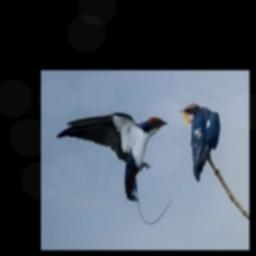Swallow: (57, 112, 168, 201), (179, 103, 220, 181)
